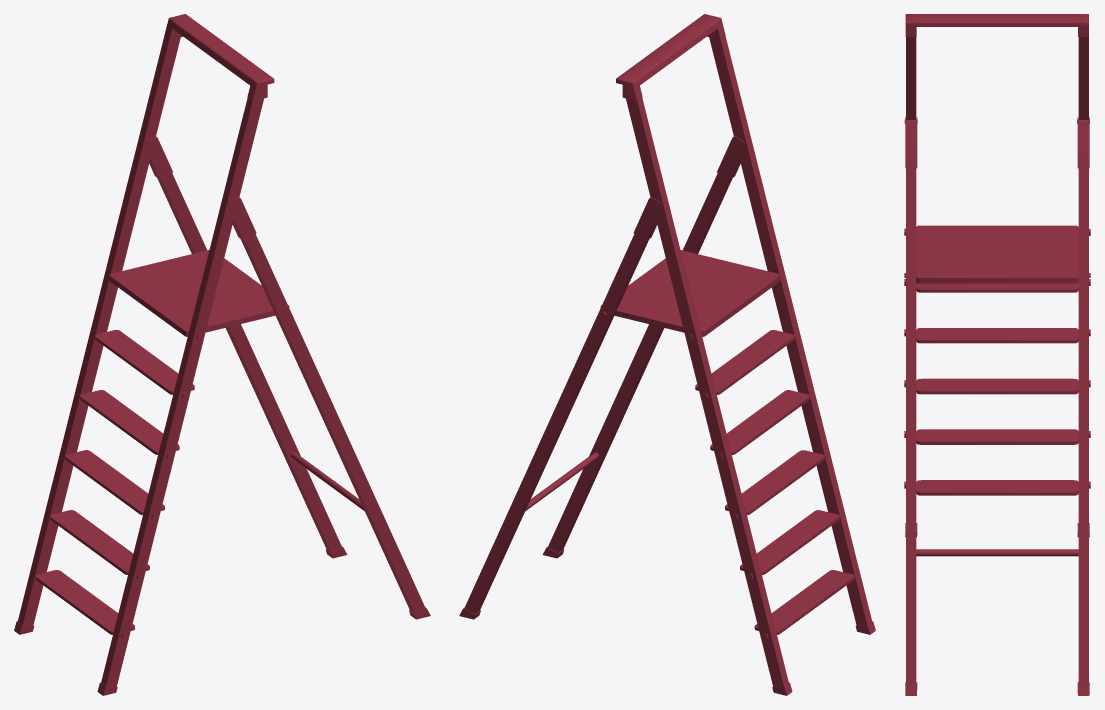
Rendered from escabeau.FBX.
3 views of the same model, side by side, from view 1: azimuth 30°, elevation 25°; view 2: azimuth 150°, elevation 25°; view 3: azimuth 270°, elevation 25° (orthographic). The views are drawn at different scales.
Visible parts, largest first — view 1: pieds_avant, marches, pieds_arriere; view 2: pieds_avant, marches, pieds_arriere; view 3: marches, pieds_arriere, pieds_avant.
Part boxes in pixels (bbox=[...]): pieds_avant: bbox=[14, 14, 274, 695]; marches: bbox=[35, 250, 289, 634]; pieds_arriere: bbox=[145, 136, 430, 619]; pieds_avant: bbox=[616, 14, 875, 695]; marches: bbox=[600, 250, 854, 634]; pieds_arriere: bbox=[459, 136, 744, 619]; marches: bbox=[916, 225, 1078, 495]; pieds_arriere: bbox=[904, 117, 1090, 695]; pieds_avant: bbox=[904, 14, 1090, 537].
Bounding box in the file's own units: 44.67 × 74.93 × 21.25.
